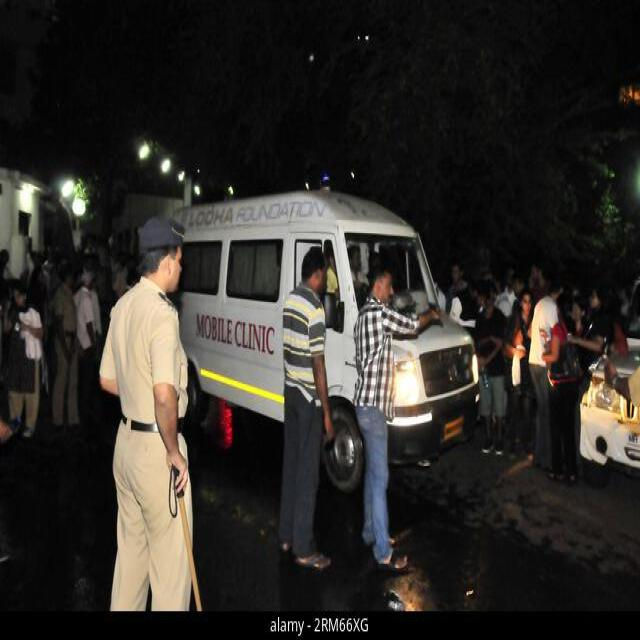emergency: (179, 189, 479, 490)
